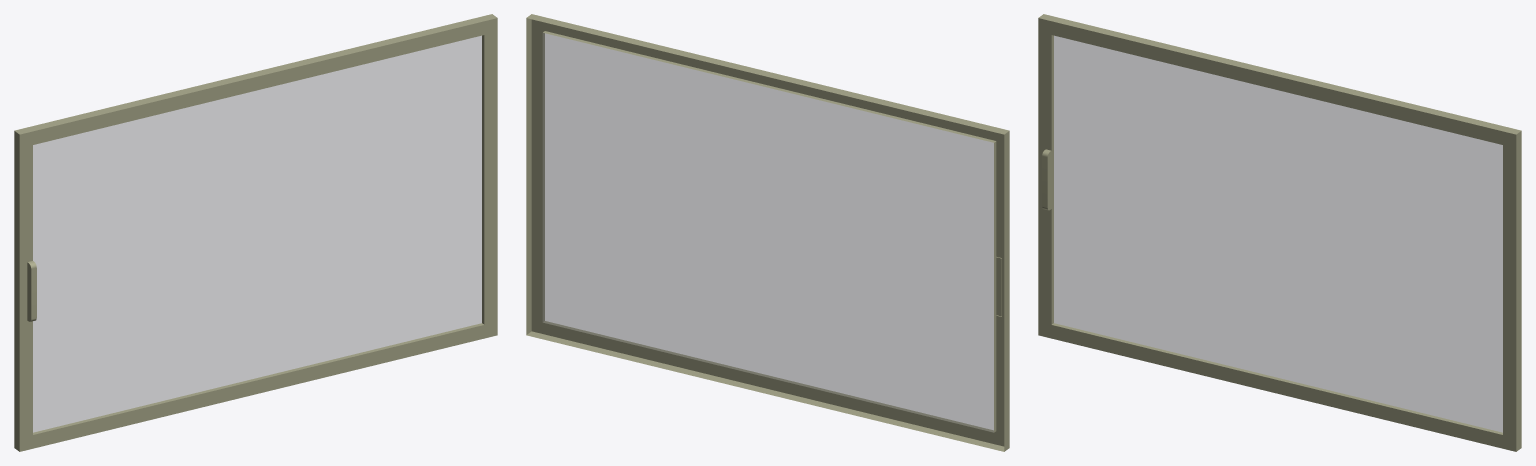
The model's file is Ventanal H Vidrio 3.fbx.
3 renders of one model, left to right at view 1: azimuth 30°, elevation 25°; view 2: azimuth 150°, elevation 25°; view 3: azimuth 330°, elevation 25°, orthographic.
Visible parts, largest first — view 1: Ventanal_H_Vidrio_3; view 2: Ventanal_H_Vidrio_3; view 3: Ventanal_H_Vidrio_3.
Boxes of the visible parts, left/top/right/bottom form: Ventanal_H_Vidrio_3: left=14, top=14, right=497, bottom=451; Ventanal_H_Vidrio_3: left=526, top=14, right=1009, bottom=451; Ventanal_H_Vidrio_3: left=1038, top=14, right=1521, bottom=451.
Size of the model in its own units: 1.17 by 0.7398 by 0.0395.
